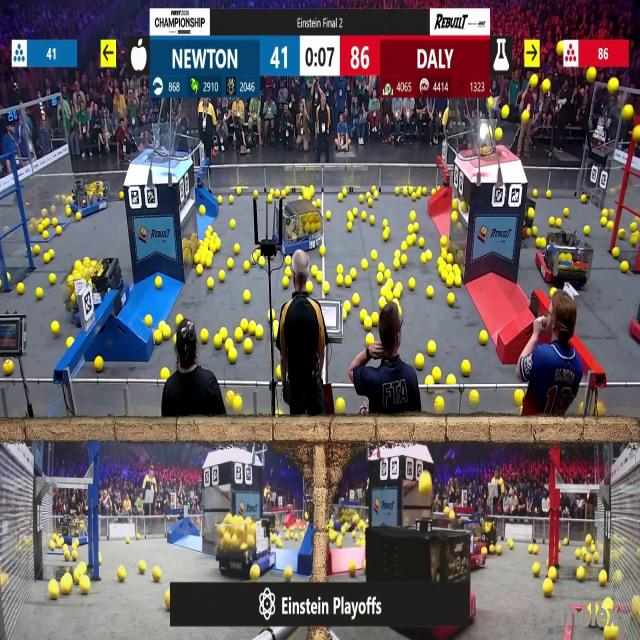ball_airborne: (419, 474, 432, 495), (624, 105, 634, 119), (608, 78, 618, 92), (588, 68, 597, 82), (494, 130, 502, 142), (530, 75, 538, 87), (501, 105, 508, 118), (541, 79, 549, 90), (523, 110, 530, 122), (634, 127, 640, 141), (488, 98, 494, 110), (483, 146, 489, 156)
ball_ground: (61, 580, 73, 596), (48, 582, 58, 600), (542, 581, 552, 598), (604, 626, 616, 640), (80, 579, 89, 596), (250, 565, 260, 580), (434, 396, 443, 412), (515, 390, 524, 405), (95, 356, 104, 370), (416, 354, 425, 368), (461, 360, 470, 374), (337, 398, 346, 412), (4, 360, 13, 374), (165, 592, 172, 610), (598, 570, 606, 585), (152, 566, 160, 581), (230, 349, 238, 364), (576, 567, 584, 581), (201, 328, 209, 342), (428, 342, 436, 356), (370, 313, 378, 327), (469, 390, 477, 404), (349, 561, 356, 576), (432, 367, 440, 380), (214, 337, 222, 350), (532, 563, 540, 576), (284, 567, 292, 580), (481, 332, 488, 346), (154, 332, 161, 346), (117, 567, 124, 581), (255, 325, 262, 339), (245, 340, 252, 354), (235, 396, 242, 410), (352, 293, 360, 305), (448, 292, 456, 304), (236, 328, 244, 340), (622, 262, 630, 274), (550, 568, 558, 580), (604, 598, 612, 610), (244, 289, 251, 302), (51, 321, 58, 334), (164, 326, 171, 339), (557, 41, 564, 54), (162, 367, 170, 378), (322, 282, 330, 293), (363, 319, 371, 330), (365, 335, 372, 347), (218, 271, 225, 283), (226, 259, 233, 271), (379, 296, 386, 308), (36, 288, 43, 300), (16, 284, 24, 294), (454, 277, 462, 287), (448, 374, 456, 384), (219, 327, 227, 337), (425, 376, 433, 386), (420, 253, 428, 263), (224, 340, 232, 350), (447, 277, 455, 287), (307, 281, 314, 292), (419, 238, 426, 249), (67, 338, 74, 349), (176, 314, 183, 325), (393, 287, 400, 298), (631, 235, 638, 246), (248, 323, 255, 334), (427, 286, 433, 298), (155, 278, 161, 290), (140, 561, 146, 573), (244, 263, 251, 273), (345, 276, 352, 286), (611, 248, 618, 258), (536, 238, 543, 248), (338, 276, 345, 286), (316, 274, 323, 284), (414, 222, 421, 232), (586, 554, 593, 564), (284, 268, 291, 278), (283, 277, 289, 288), (410, 279, 416, 290), (49, 274, 55, 285), (208, 278, 214, 289), (146, 315, 152, 326), (360, 311, 366, 322), (378, 274, 384, 285), (195, 266, 201, 277), (528, 208, 534, 219), (193, 253, 199, 264), (379, 264, 386, 273), (526, 229, 533, 238), (585, 224, 591, 234), (235, 244, 241, 254), (370, 250, 376, 260), (452, 212, 458, 222), (556, 217, 562, 227), (258, 256, 264, 266), (362, 261, 368, 271), (277, 365, 282, 377), (34, 245, 40, 255), (442, 237, 448, 247), (383, 232, 389, 242), (345, 302, 351, 312), (242, 320, 248, 330), (381, 286, 387, 296), (206, 257, 212, 267), (411, 211, 417, 221), (574, 550, 580, 560), (215, 240, 220, 252), (387, 278, 393, 288), (408, 237, 414, 247), (496, 544, 502, 554), (586, 534, 592, 544), (202, 253, 207, 265), (209, 242, 215, 252), (631, 222, 638, 230), (285, 256, 292, 264), (351, 269, 356, 280), (426, 250, 431, 261), (44, 253, 50, 262), (400, 255, 406, 264), (200, 206, 206, 215), (338, 266, 344, 275), (600, 217, 606, 226), (547, 217, 553, 226), (312, 267, 318, 276), (360, 212, 366, 221), (532, 188, 538, 197), (384, 271, 390, 280), (453, 201, 459, 210), (231, 219, 237, 228), (620, 231, 626, 240), (507, 539, 513, 548), (48, 250, 54, 259), (442, 272, 448, 281), (358, 193, 364, 202), (348, 212, 354, 221), (394, 186, 400, 195), (66, 552, 72, 561), (535, 547, 541, 556), (454, 266, 460, 275), (276, 538, 282, 547), (394, 261, 399, 271), (401, 242, 406, 252), (532, 226, 537, 236), (392, 296, 399, 303), (607, 221, 613, 229), (394, 250, 400, 258), (66, 208, 72, 216), (269, 194, 275, 202), (551, 288, 557, 296), (602, 209, 608, 217), (252, 190, 258, 198), (254, 248, 260, 256), (442, 249, 448, 257), (490, 544, 496, 552), (437, 259, 443, 267), (320, 246, 325, 255), (348, 221, 353, 230), (564, 208, 569, 217), (448, 254, 453, 263), (328, 211, 333, 220), (580, 197, 585, 206), (72, 552, 77, 561), (161, 320, 166, 329), (315, 201, 321, 208), (422, 187, 428, 194), (402, 188, 408, 195), (127, 536, 133, 543), (369, 216, 374, 224), (43, 232, 48, 240), (343, 313, 348, 321), (339, 192, 344, 200), (367, 200, 372, 208), (413, 191, 418, 199), (51, 217, 56, 225), (564, 537, 569, 545), (338, 539, 343, 547), (237, 187, 242, 195), (281, 189, 286, 197), (276, 188, 281, 196), (76, 212, 80, 221), (409, 223, 413, 232), (228, 197, 232, 206), (528, 543, 532, 552), (272, 311, 276, 320), (375, 192, 381, 198), (594, 554, 598, 563), (0, 281, 4, 290), (383, 219, 388, 226), (353, 209, 358, 216), (546, 190, 550, 198), (58, 226, 62, 234), (99, 556, 103, 564), (208, 224, 212, 232), (372, 194, 376, 202), (344, 188, 348, 196), (356, 540, 361, 546), (119, 191, 123, 198), (218, 198, 222, 205), (432, 188, 436, 195), (352, 531, 356, 538), (137, 534, 141, 540), (7, 274, 11, 280)
goal: (130, 128, 189, 160), (467, 127, 522, 160)
robot_blue: (66, 257, 126, 327), (211, 517, 275, 581), (276, 200, 323, 253), (72, 176, 110, 216), (61, 517, 88, 547)
robot_red: (411, 528, 472, 638), (537, 228, 592, 290), (475, 518, 505, 550), (630, 290, 640, 343)
